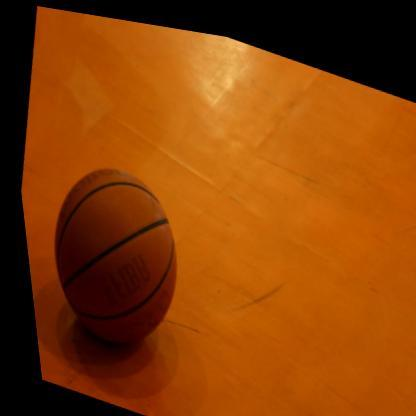basketball: (22, 142, 196, 367)
